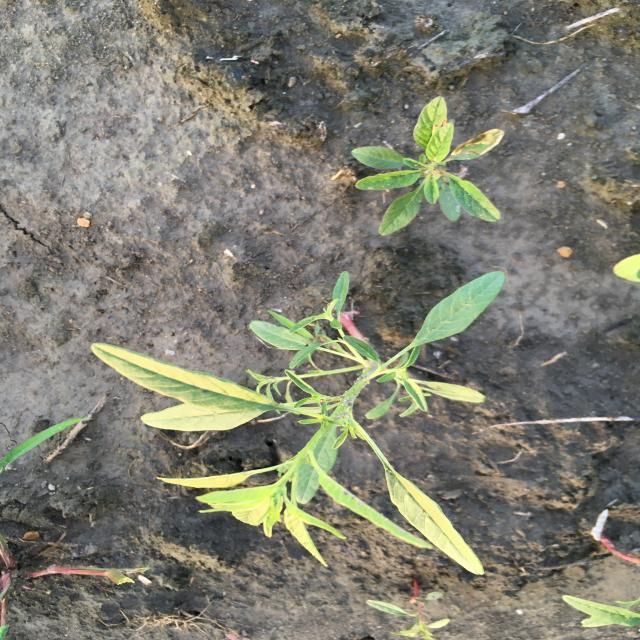Waterhemp: (86, 269, 508, 576), (351, 96, 507, 236)
